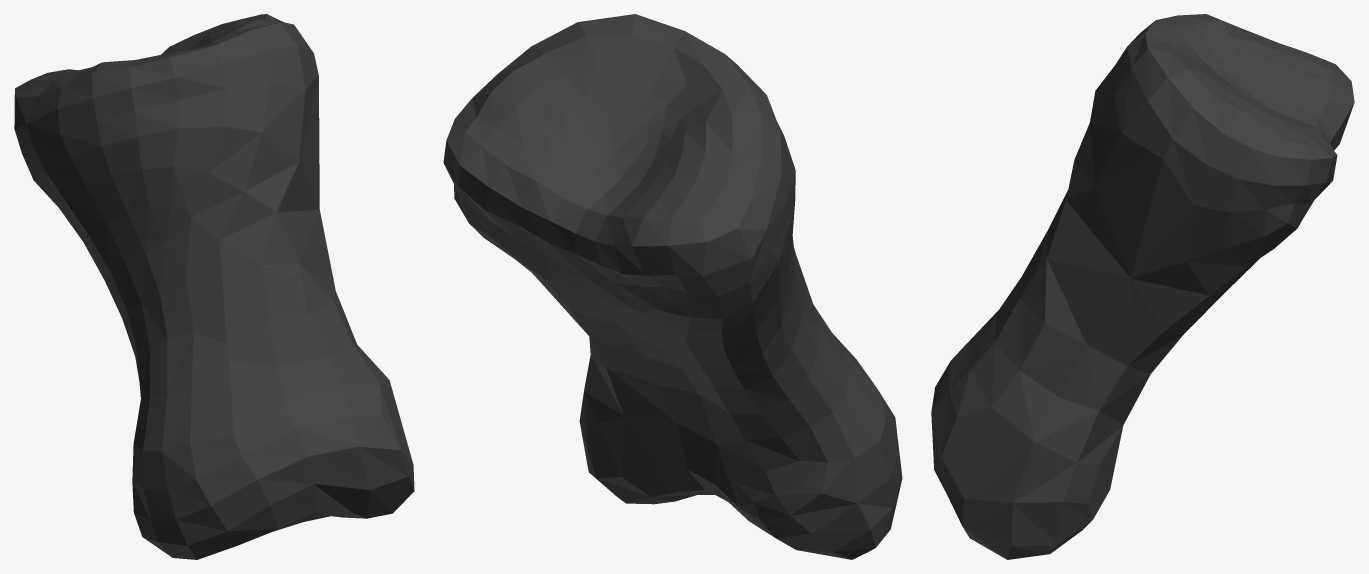
File: RFL_P1.glb
The picture shows the model from 3 angles, left to right: view 1: azimuth 30°, elevation 25°; view 2: azimuth 150°, elevation 25°; view 3: azimuth 270°, elevation 25°; orthographic projection. The views are drawn at different scales.
Parts seen in each view (by area): view 1: RFL_P1; view 2: RFL_P1; view 3: RFL_P1.
Boxes of the visible parts, x1,y1,x2,y2 form: RFL_P1: (14,14,414,559); RFL_P1: (443,14,902,559); RFL_P1: (931,14,1354,559).
Size of the model in its own units: 11.31 by 18.73 by 14.99.
Materials: 1 (1 with a texture image).
